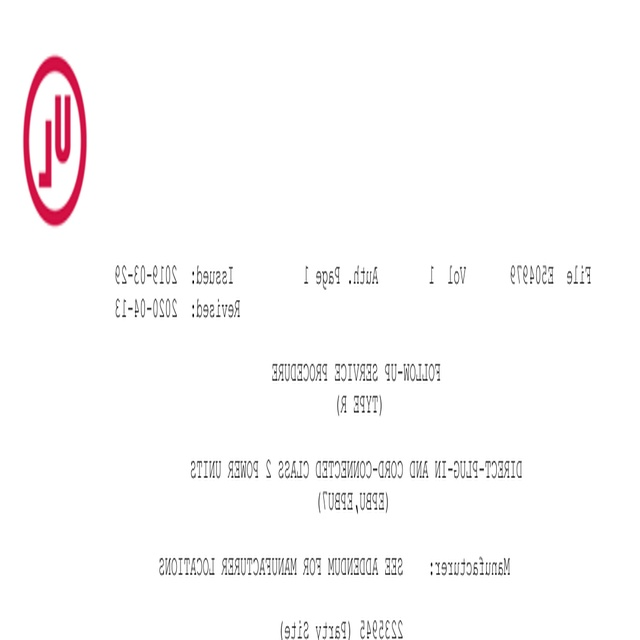ul: (22, 56, 88, 225)
